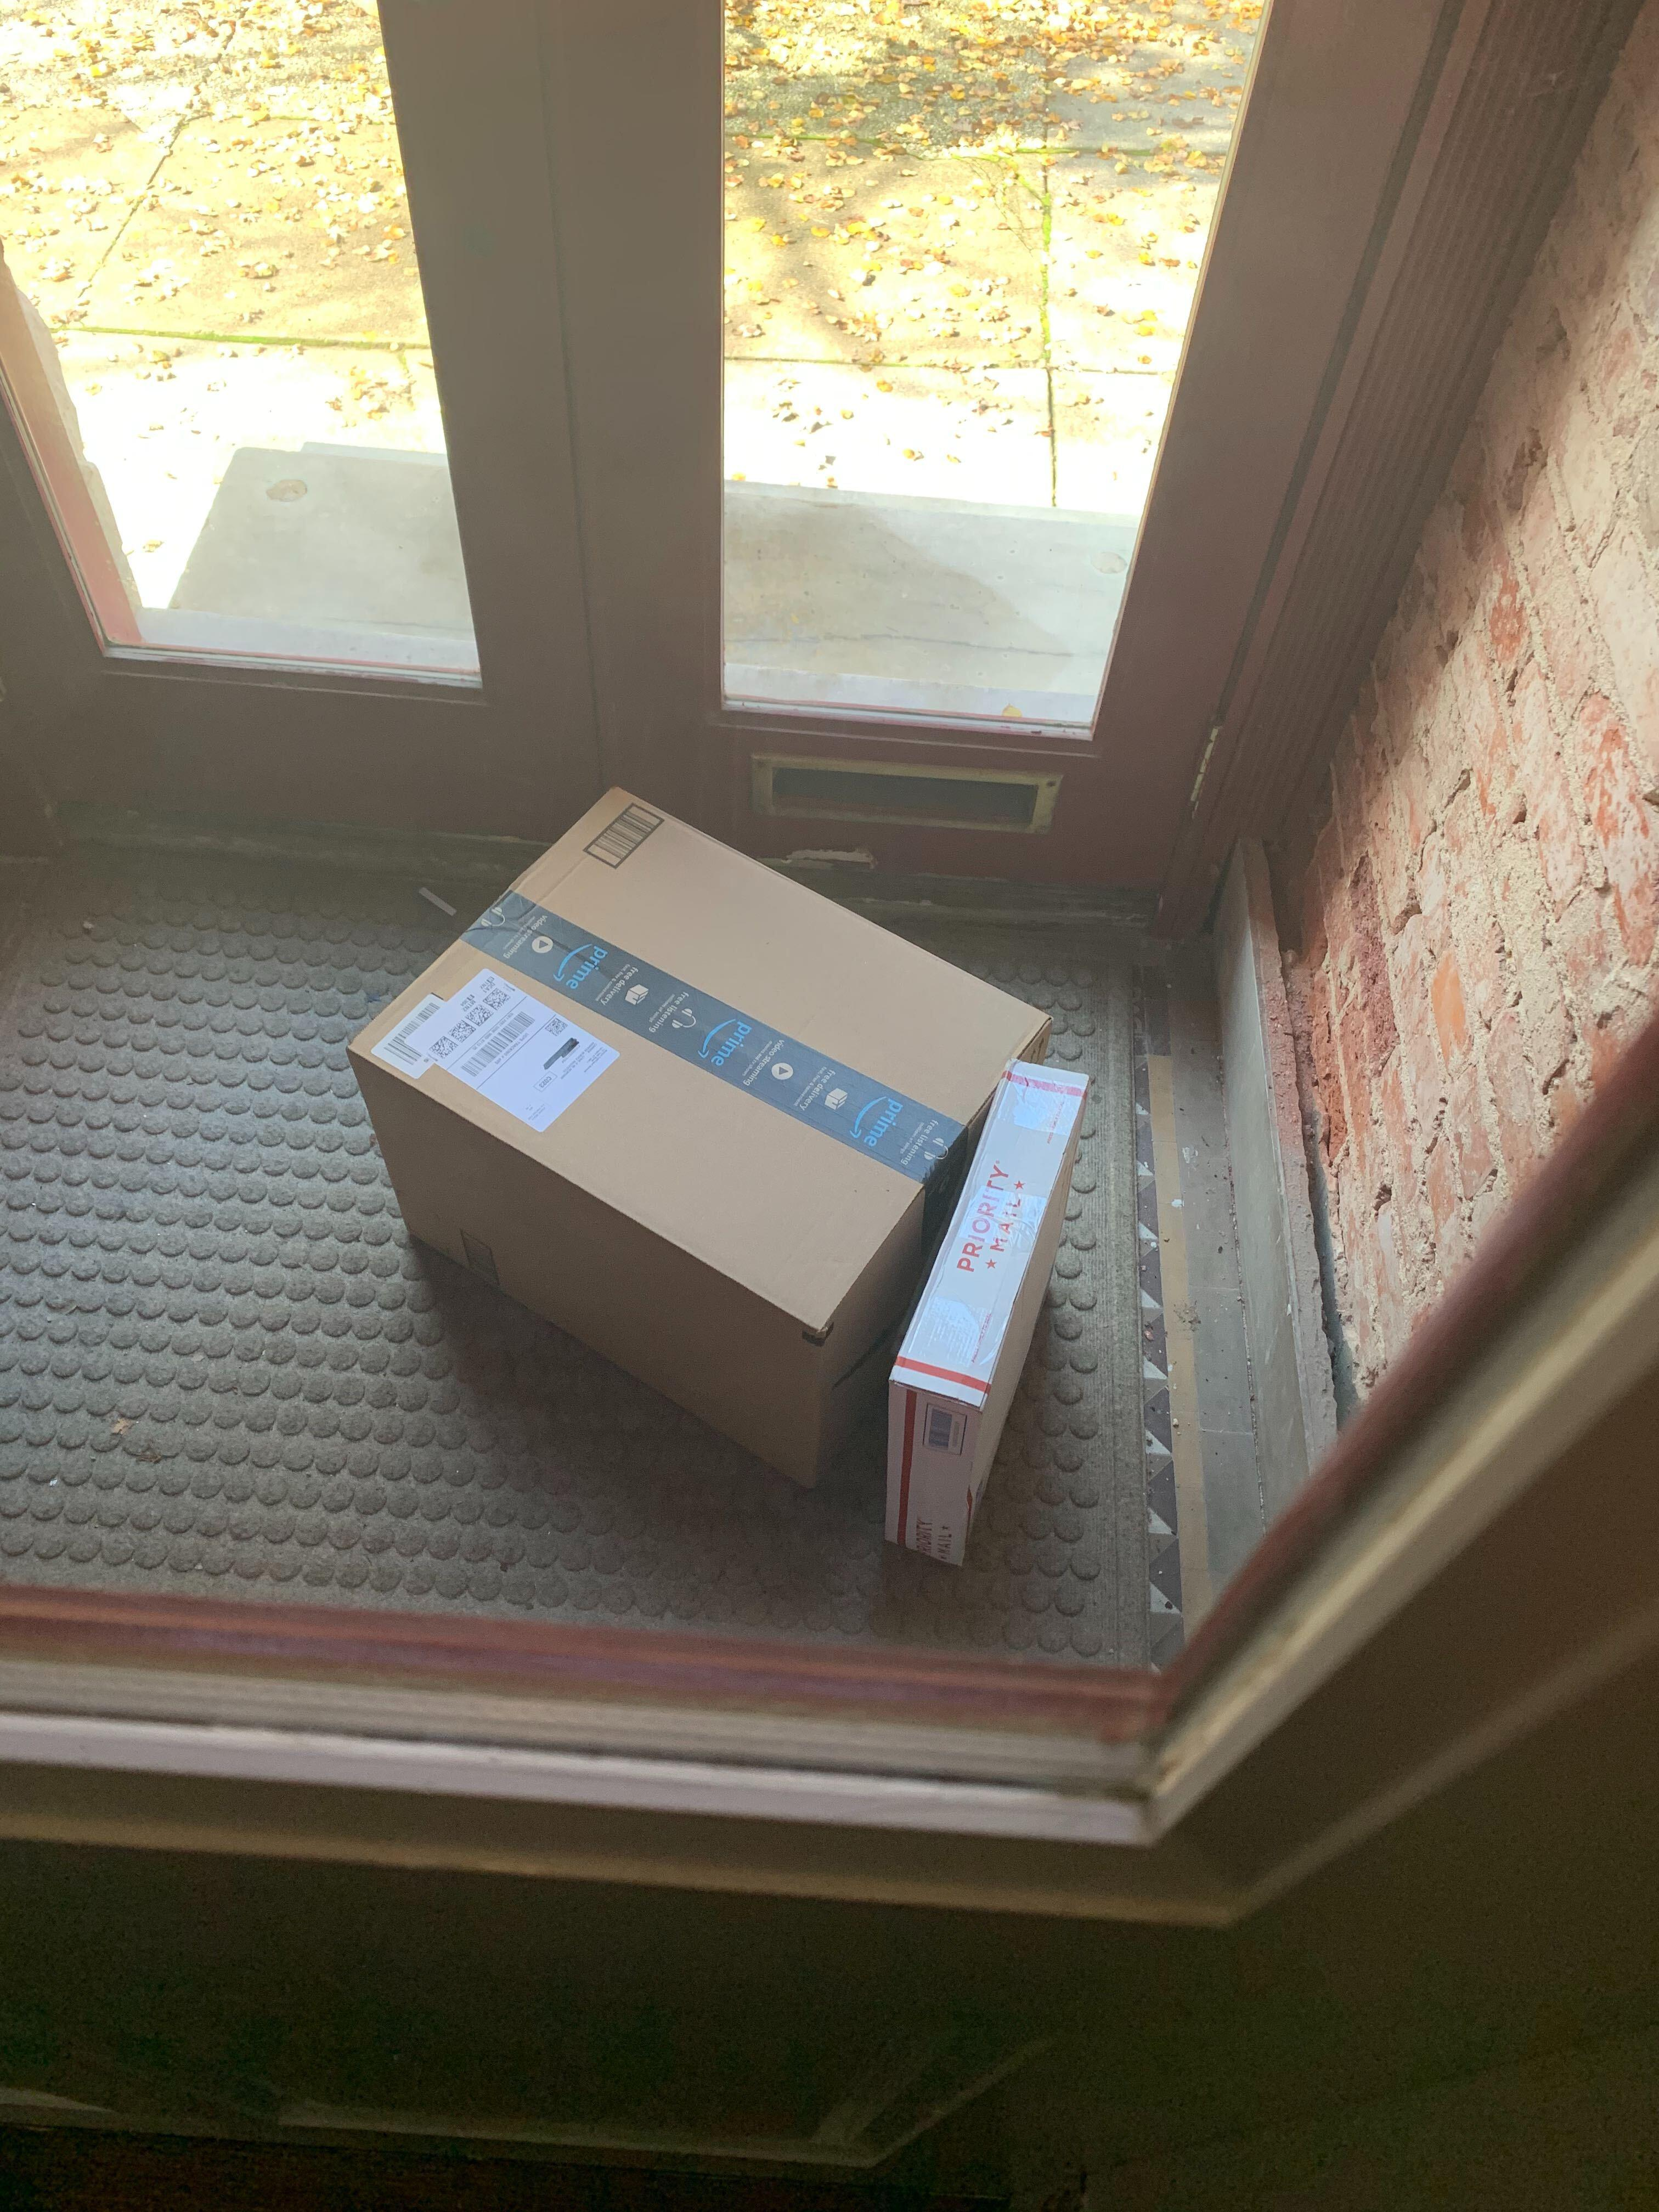package: (349, 782, 1051, 1508), (880, 1061, 1100, 1573)
